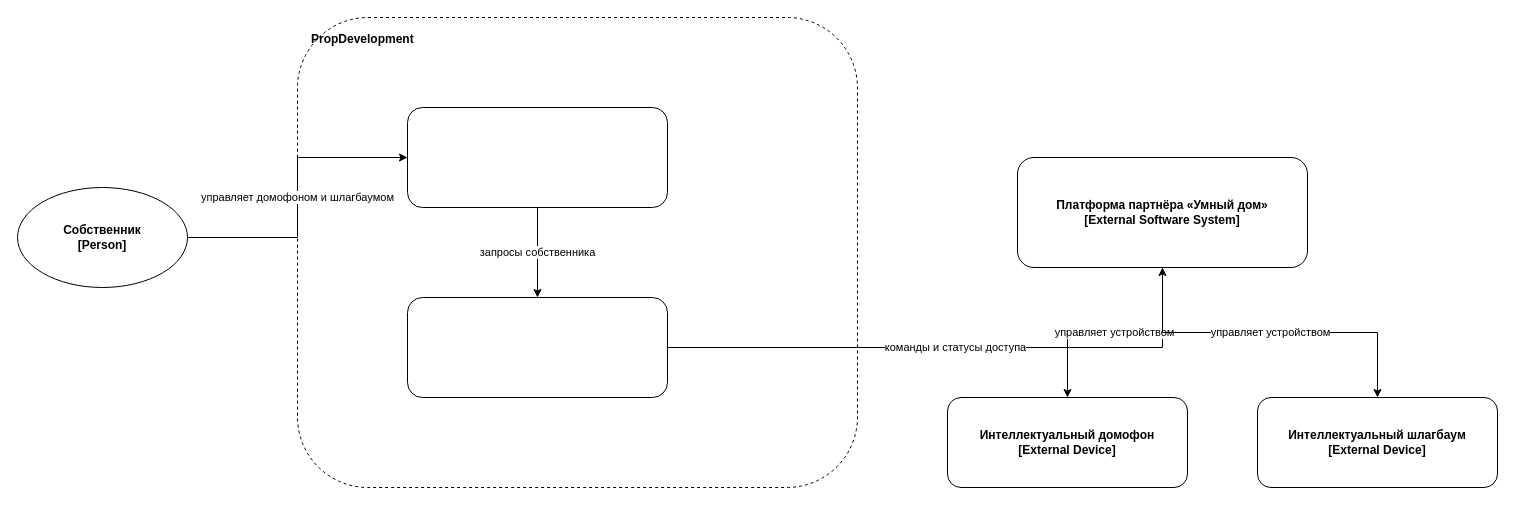
This 1515x505 diagram has some shape labels left out. Here are the shapes that lost their labels. From the top down, the centre of each, then its label:
At [537,157]: "Мобильное приложение собственников [Software System]".
At [537,347]: "Сервисы ЖКУ PropDevelopment [Software System]".
